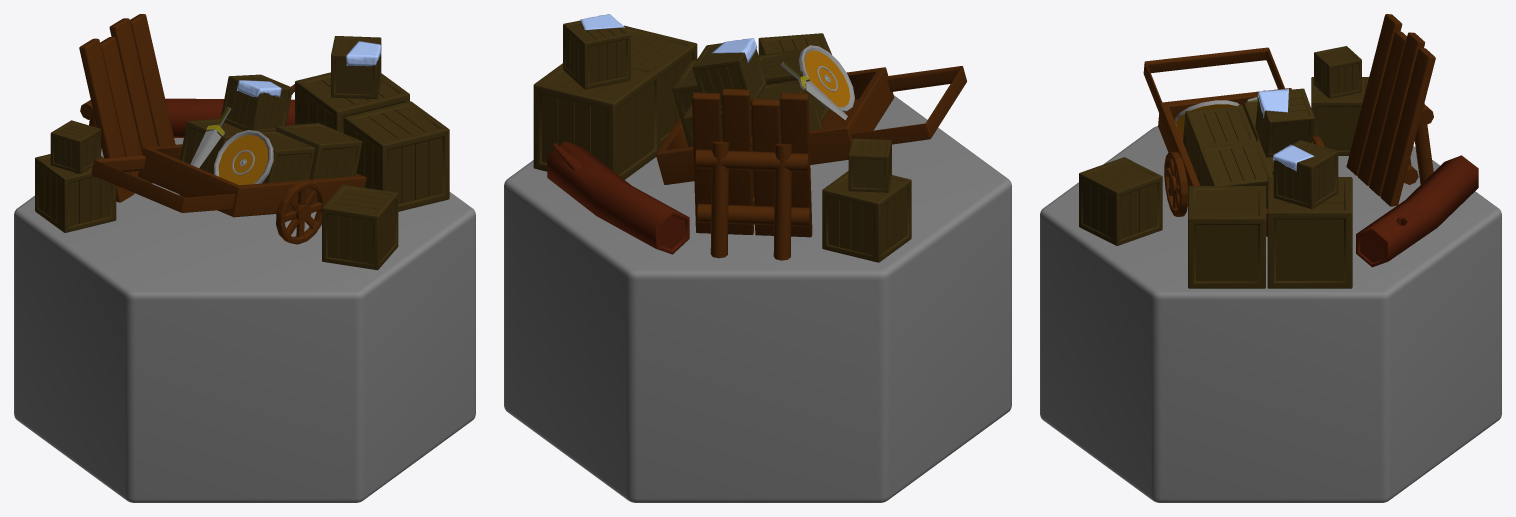
The model's file is Environment_Supplies.fbx.
3 views of the same model, side by side, from view 1: azimuth 30°, elevation 25°; view 2: azimuth 150°, elevation 25°; view 3: azimuth 270°, elevation 25° (orthographic). The views are drawn at different scales.
Visible parts, largest first — view 1: Object021; view 2: Object021; view 3: Object021.
Boxes of the visible parts, x1=… form: Object021: x1=14, y1=14, x2=475, y2=502; Object021: x1=504, y1=14, x2=1011, y2=502; Object021: x1=1040, y1=14, x2=1501, y2=502.
Size of the model in its own units: 173 by 170 by 198.
